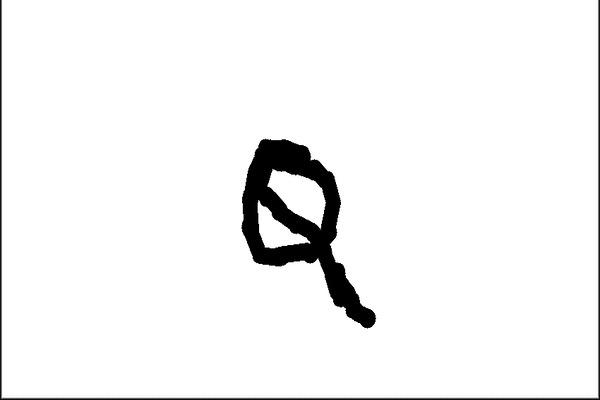Q: (218, 133, 382, 349)
